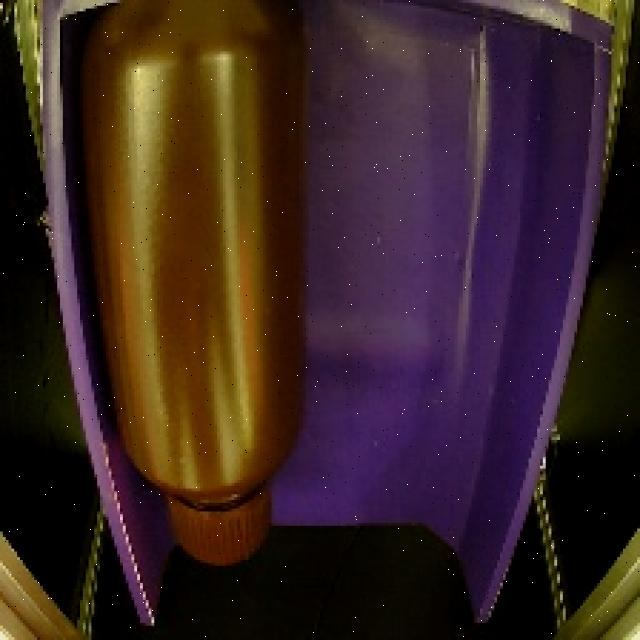plastic: (51, 0, 343, 594)
